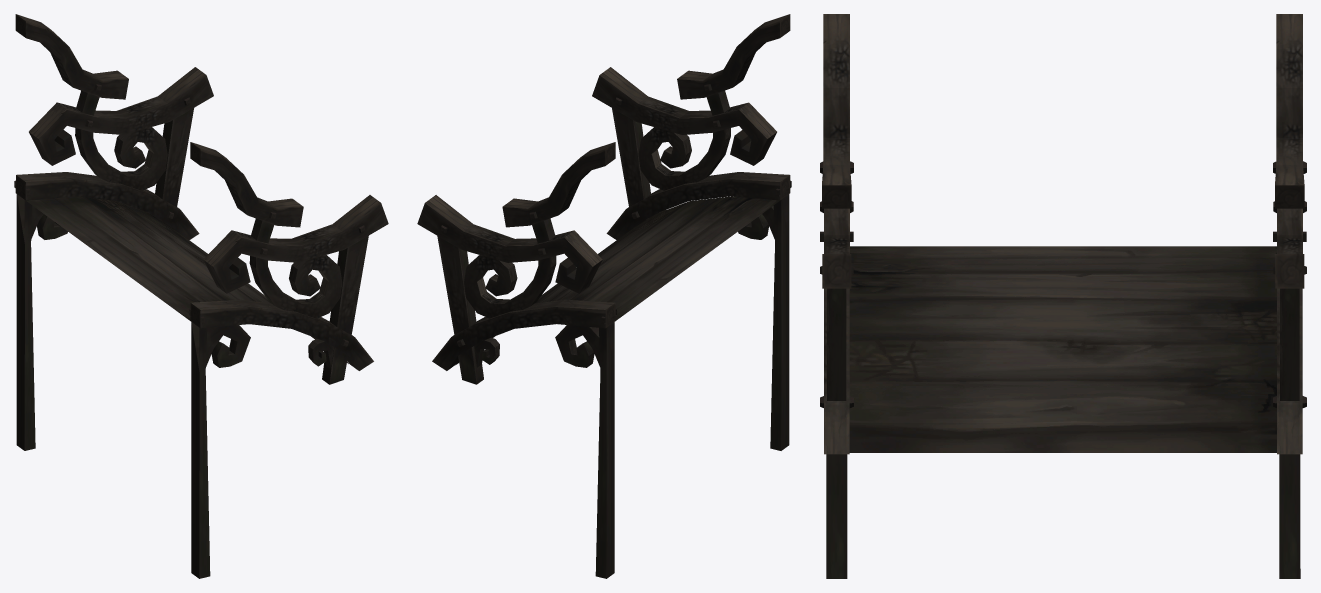
File: wooden_bridge_burnt_01_d.fbx
3 renders of one model, left to right at view 1: azimuth 30°, elevation 25°; view 2: azimuth 150°, elevation 25°; view 3: azimuth 270°, elevation 25°, orthographic. The views are drawn at different scales.
Visible parts, largest first — view 1: obj1.114; view 2: obj1.114; view 3: obj1.114.
Boxes of the visible parts, x1,y1,x2,y2 form: obj1.114: [14, 14, 388, 578]; obj1.114: [417, 14, 791, 578]; obj1.114: [820, 14, 1306, 578].
Bounding box in the file's own units: 4.73 × 10.35 × 8.18.
